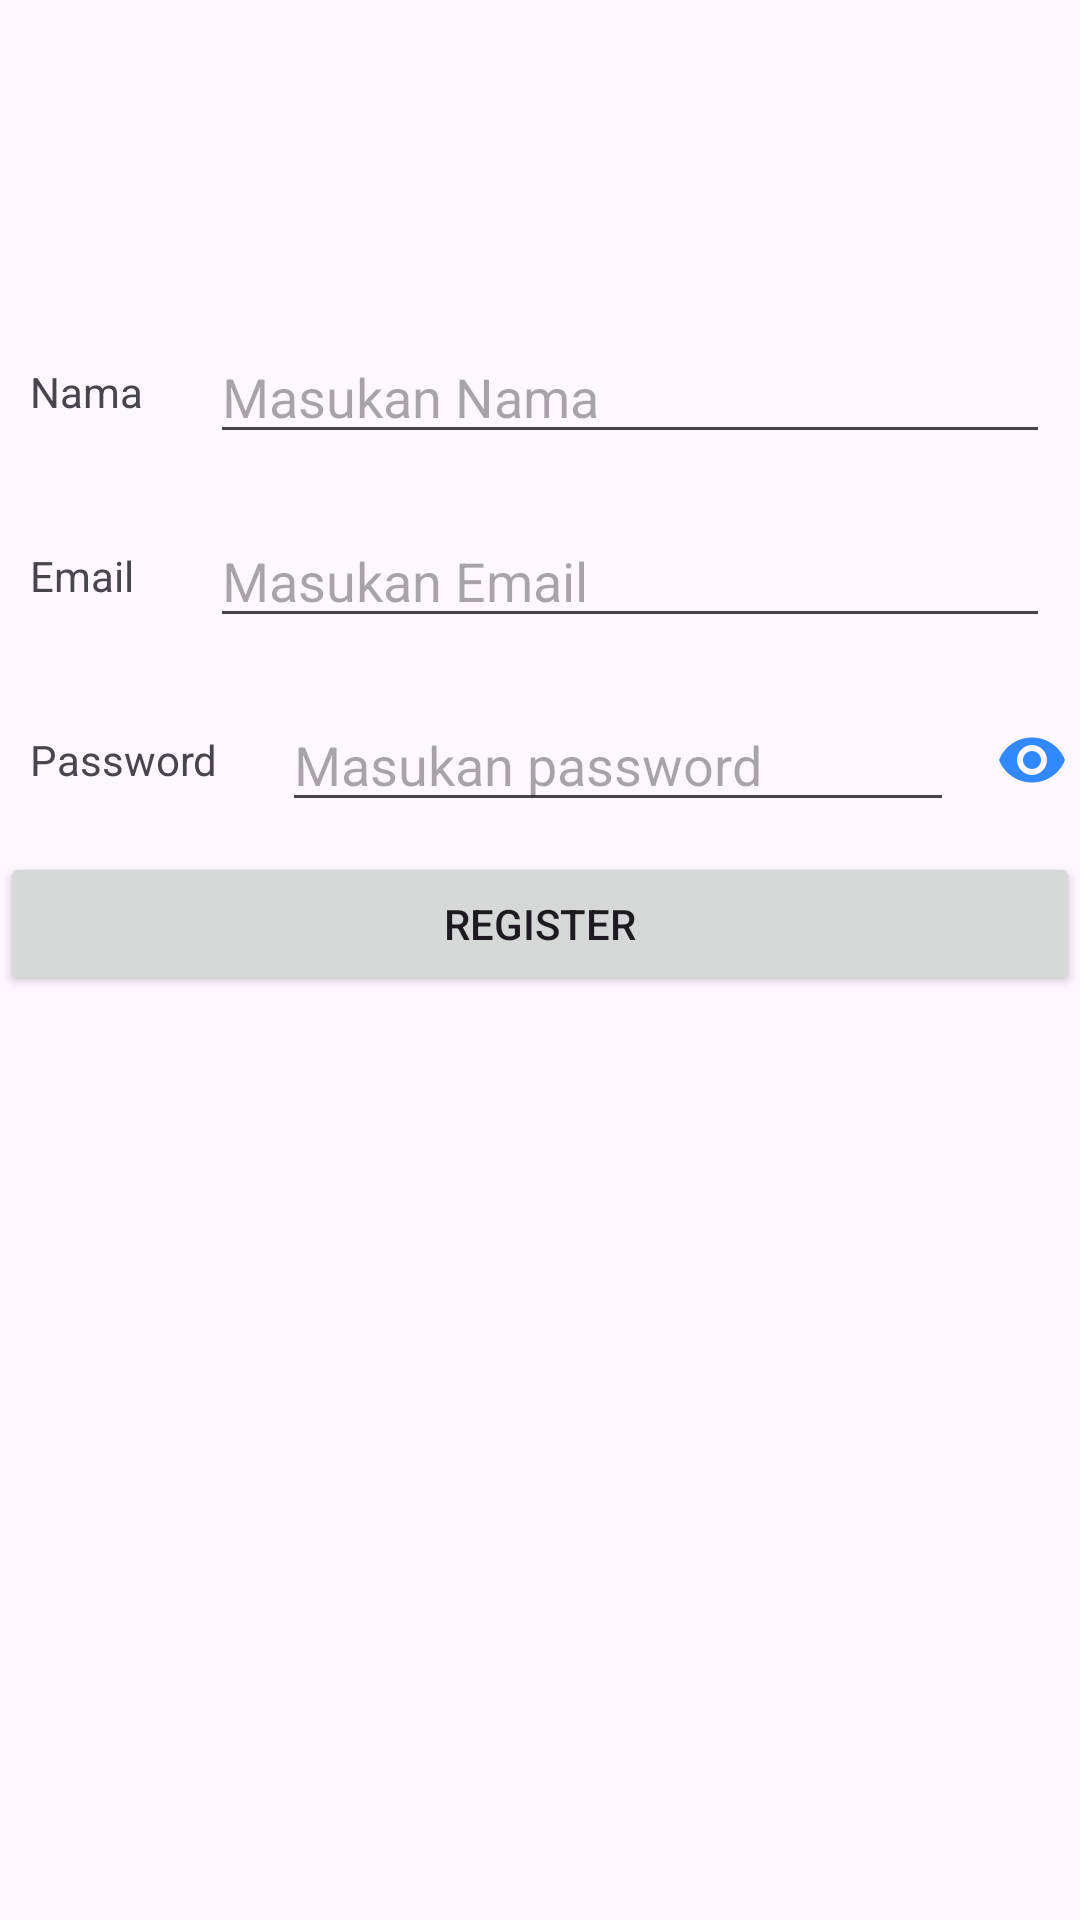

Where to tap for icons on this 1080w x 1920h app screen, as (x,y):
eye: (1032,760)
